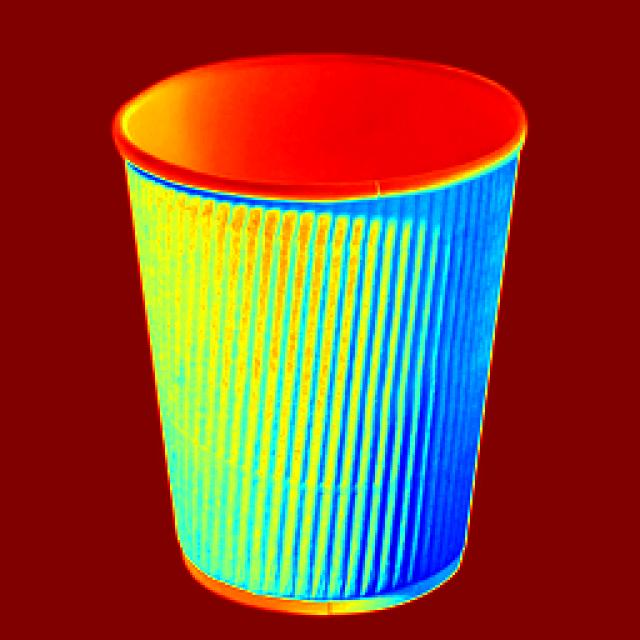Paper Cups: (106, 20, 525, 634)
